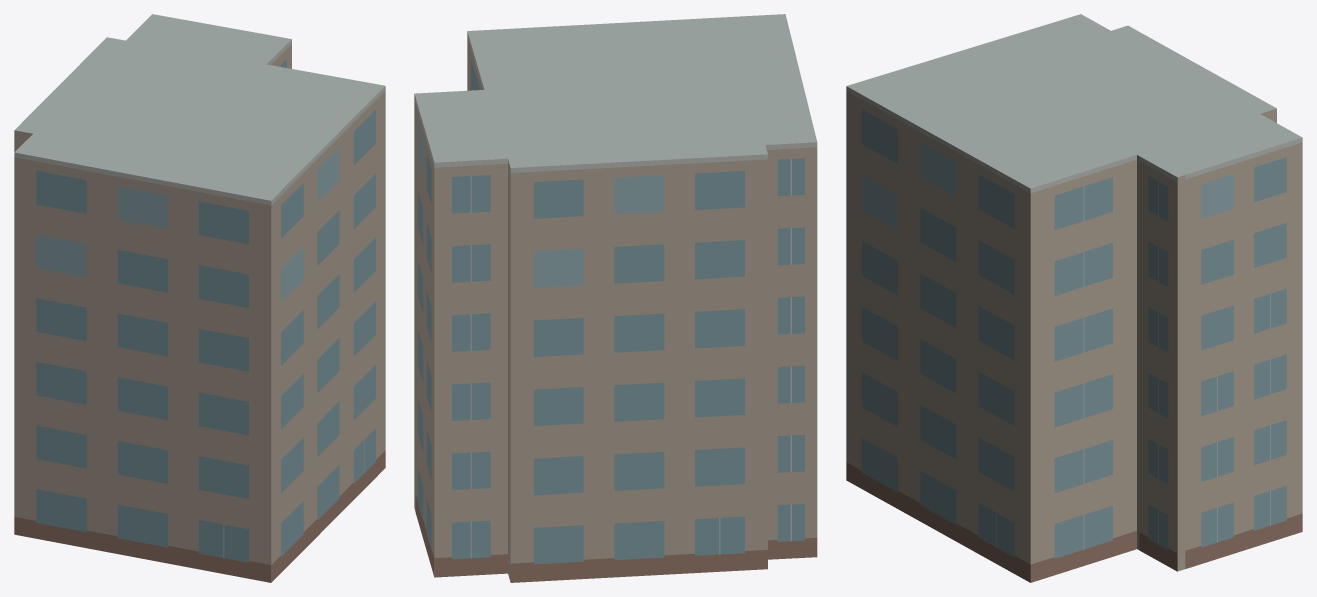
Rendered from survey-upis-32717829.glb.
3 views of the same model, side by side, from view 1: azimuth 30°, elevation 25°; view 2: azimuth 150°, elevation 25°; view 3: azimuth 270°, elevation 25° (orthographic). The views are drawn at different scales.
Parts seen in each view (by area): view 1: survey-upis-32717829.tmp; view 2: survey-upis-32717829.tmp; view 3: survey-upis-32717829.tmp.
Part boxes in pixels (left/top/right/bottom): survey-upis-32717829.tmp: left=14, top=14, right=385, bottom=582; survey-upis-32717829.tmp: left=414, top=14, right=817, bottom=582; survey-upis-32717829.tmp: left=846, top=14, right=1302, bottom=582.
Size of the model in its own units: 19.1 by 20.1 by 21.09.
